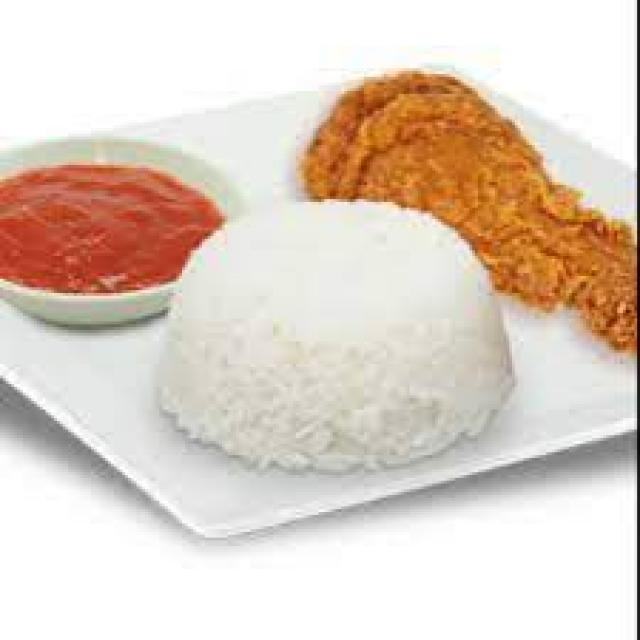Frango: (284, 60, 640, 213), (472, 173, 640, 330)
